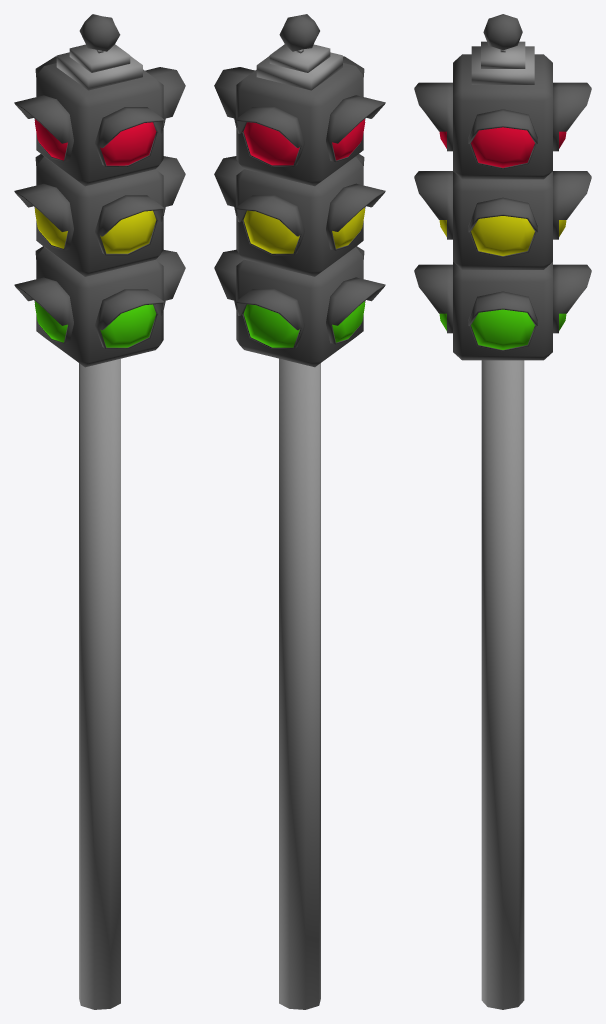
File: Traffic_light.fbx
The picture shows the model from 3 angles, left to right: view 1: azimuth 30°, elevation 25°; view 2: azimuth 150°, elevation 25°; view 3: azimuth 270°, elevation 25°; orthographic projection.
Visible parts, largest first — view 1: Traffic_Light; view 2: Traffic_Light; view 3: Traffic_Light.
Boxes of the visible parts, box(x1,y1,x2,y2) form: Traffic_Light: box(14, 14, 185, 1009); Traffic_Light: box(214, 14, 385, 1009); Traffic_Light: box(414, 14, 591, 1009).
Size of the model in its own units: 76.51 by 468 by 76.51.
1 material, 1 textured.
